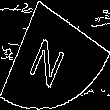N_NE: (33, 23, 77, 87)
